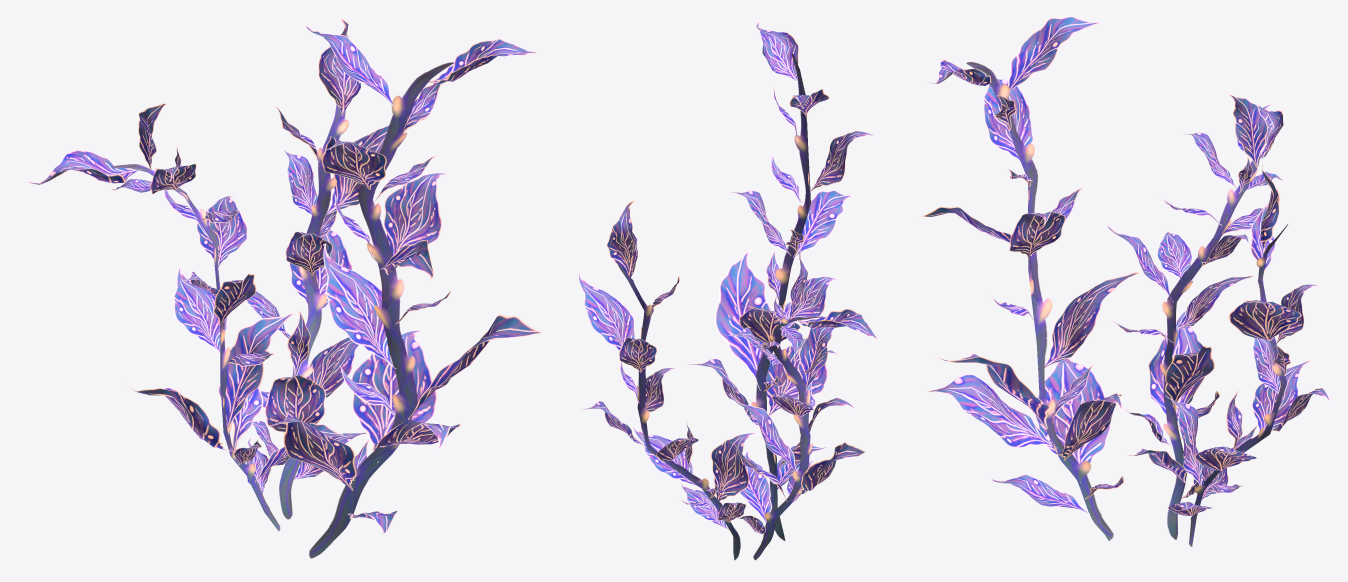
The model's file is decor (3).glb.
3 renders of one model, left to right at view 1: azimuth 30°, elevation 25°; view 2: azimuth 150°, elevation 25°; view 3: azimuth 270°, elevation 25°, orthographic. The views are drawn at different scales.
Visible parts, largest first — view 1: small leave.001, big leave.002, small leave.006; view 2: small leave.001, small leave.006, big leave.002; view 3: small leave.001, big leave.002, small leave.006.
Part boxes in pixels (bbox=[...]): small leave.001: bbox=[265, 23, 541, 558]; big leave.002: bbox=[23, 103, 343, 531]; small leave.006: bbox=[224, 17, 427, 519]; small leave.001: bbox=[684, 19, 876, 540]; small leave.006: bbox=[578, 200, 758, 560]; big leave.002: bbox=[728, 249, 876, 560]; small leave.001: bbox=[916, 16, 1139, 540]; big leave.002: bbox=[1106, 94, 1288, 539]; small leave.006: bbox=[1165, 156, 1329, 546].
Size of the model in its own units: 1.85 by 2.56 by 1.81.
1 material, 1 textured.
